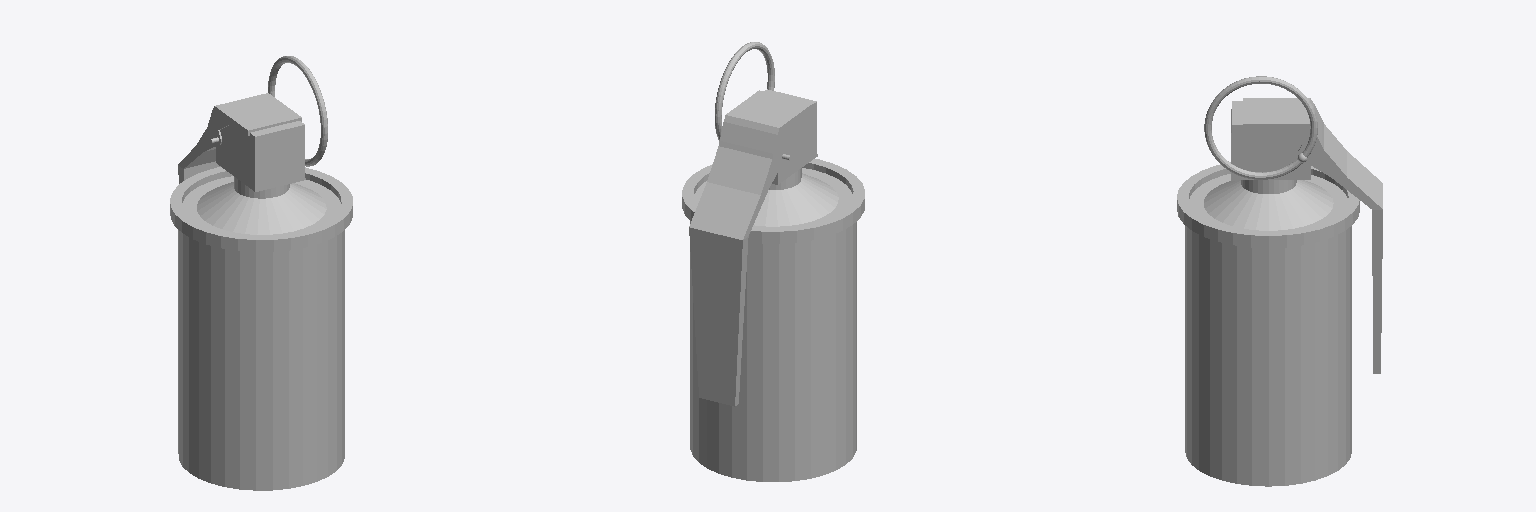
Rendered from Tear Gas.obj.
3 views of the same model, side by side, from view 1: azimuth 30°, elevation 25°; view 2: azimuth 150°, elevation 25°; view 3: azimuth 270°, elevation 25° (orthographic).
Parts seen in each view (by area): view 1: Tear_Gas_Grenade, Tear_Gas_Grenade_Spoon, Tear_Gas_Grenade_Pin; view 2: Tear_Gas_Grenade, Tear_Gas_Grenade_Spoon, Tear_Gas_Grenade_Pin; view 3: Tear_Gas_Grenade, Tear_Gas_Grenade_Spoon, Tear_Gas_Grenade_Pin.
Boxes of the visible parts, box(x1,y1,x2,y2) form: Tear_Gas_Grenade: box(170, 121, 352, 490); Tear_Gas_Grenade_Spoon: box(178, 93, 301, 183); Tear_Gas_Grenade_Pin: box(210, 56, 327, 166); Tear_Gas_Grenade: box(682, 89, 864, 481); Tear_Gas_Grenade_Spoon: box(689, 90, 812, 406); Tear_Gas_Grenade_Pin: box(715, 42, 791, 160); Tear_Gas_Grenade: box(1177, 101, 1359, 486); Tear_Gas_Grenade_Spoon: box(1243, 98, 1382, 373); Tear_Gas_Grenade_Pin: box(1204, 76, 1317, 179).
Bounding box in the file's own units: 1.34 × 3.15 × 1.51.